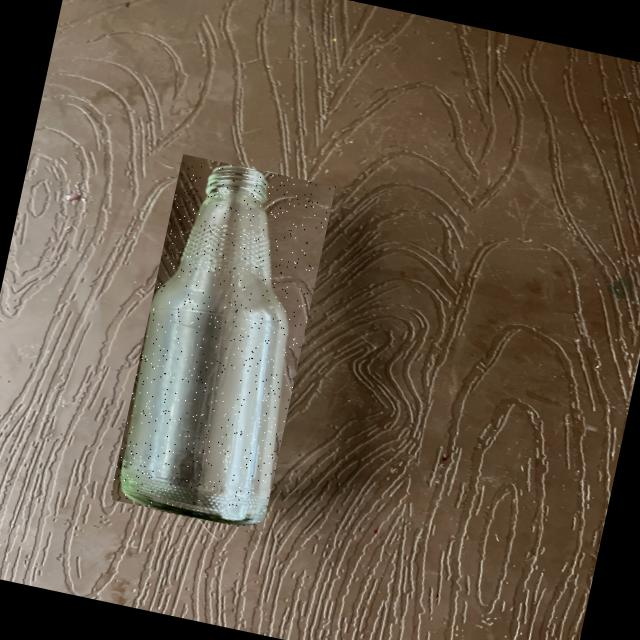Glass_Bottle: (121, 166, 287, 524)
